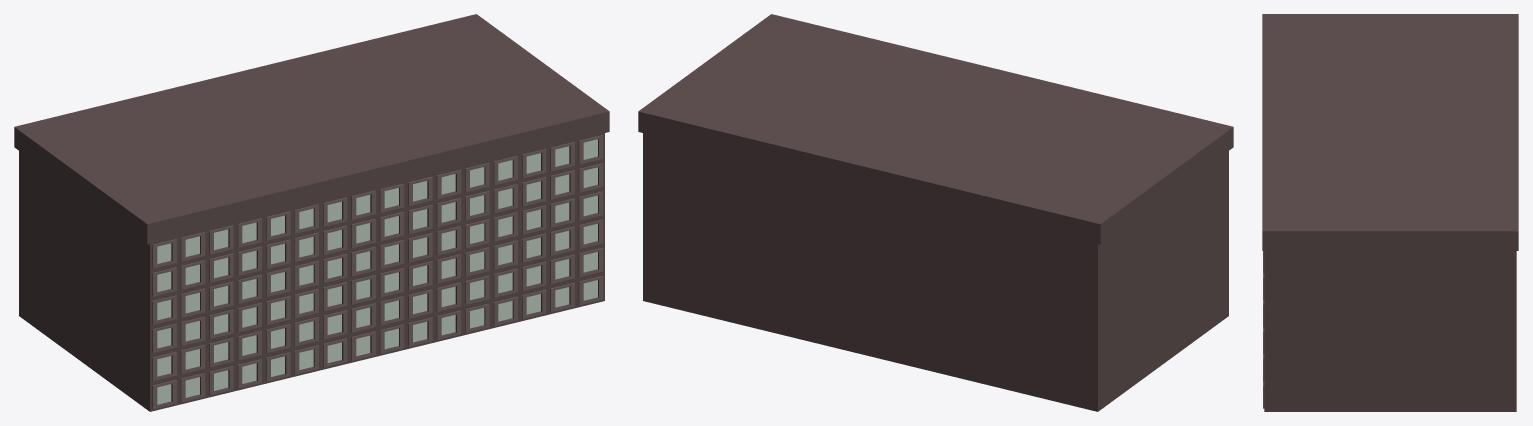
File: HouseBlock3.fbx
The picture shows the model from 3 angles, left to right: view 1: azimuth 30°, elevation 25°; view 2: azimuth 150°, elevation 25°; view 3: azimuth 270°, elevation 25°; orthographic projection. The views are drawn at different scales.
Parts seen in each view (by area): view 1: Cube.002; view 2: Cube.002; view 3: Cube.002.
Boxes of the visible parts, bbox=[...] form: Cube.002: bbox=[14, 14, 609, 411]; Cube.002: bbox=[638, 14, 1233, 411]; Cube.002: bbox=[1262, 14, 1518, 411].
Bounding box in the file's own units: 4051 × 1585 × 2021.
